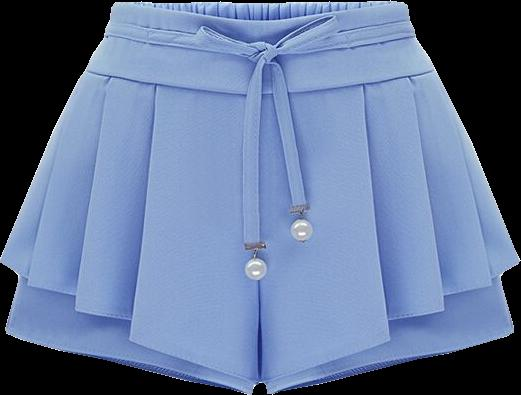Hemline: (261, 259, 520, 385), (0, 259, 258, 385), (268, 328, 515, 394), (5, 329, 253, 394)
Pantleg: (259, 1, 519, 393), (0, 2, 258, 394)
Waistline: (82, 67, 437, 98), (113, 0, 406, 23)
